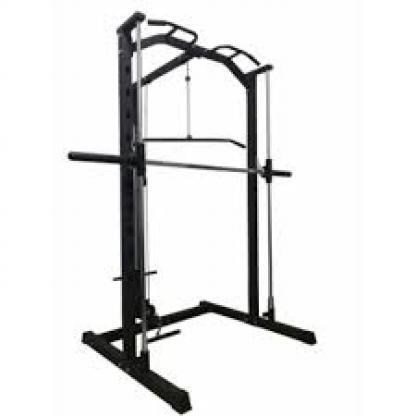smith machine: (66, 10, 318, 412)
